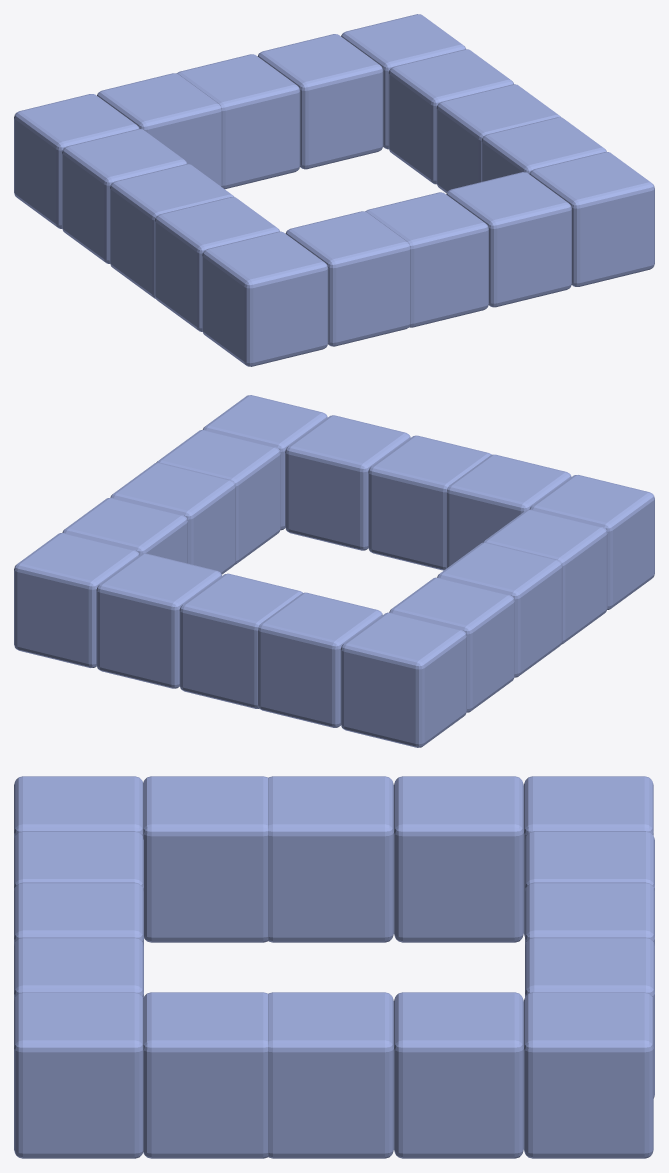
File: world border.fbx
3 renders of one model, top to bottom at view 1: azimuth 30°, elevation 25°; view 2: azimuth 150°, elevation 25°; view 3: azimuth 270°, elevation 25°, orthographic. The views are drawn at different scales.
Visible parts, largest first — view 1: Cube.020, Cube.019, Cube.003, Cube.008, Cube.001, Cube.018, Cube.002, Cube.012, Cube.014, Cube.017, Cube.016, Cube.011 (+4 smaller); view 2: Cube.017, Cube.019, Cube.003, Cube.015, Cube.013, Cube.018, Cube.002, Cube.011, Cube.016, Cube.020, Cube.014, Cube.010 (+4 smaller); view 3: Cube.008, Cube.016, Cube.012, Cube.013, Cube.010, Cube.011, Cube.009, Cube.014, Cube.019, Cube.003, Cube.002, Cube.018 (+4 smaller).
Part boxes in pixels (x1,y1,x2,y2): Cube.020: [202, 231, 328, 366]; Cube.019: [257, 34, 383, 169]; Cube.003: [446, 172, 571, 307]; Cube.008: [529, 152, 654, 286]; Cube.001: [285, 211, 410, 346]; Cube.018: [176, 54, 300, 189]; Cube.002: [365, 192, 488, 327]; Cube.012: [388, 49, 513, 184]; Cube.014: [154, 197, 279, 331]; Cube.017: [14, 94, 139, 228]; Cube.016: [62, 129, 187, 263]; Cube.011: [110, 164, 234, 298]; Cube.017: [340, 612, 466, 747]; Cube.019: [96, 553, 221, 688]; Cube.003: [285, 415, 410, 550]; Cube.015: [258, 592, 382, 727]; Cube.013: [14, 533, 139, 667]; Cube.018: [179, 573, 302, 708]; Cube.002: [368, 435, 491, 570]; Cube.011: [437, 542, 562, 677]; Cube.016: [389, 577, 514, 712]; Cube.020: [529, 475, 654, 609]; Cube.014: [483, 509, 607, 644]; Cube.010: [156, 430, 280, 564]; Cube.008: [14, 992, 143, 1158]; Cube.016: [394, 776, 523, 942]; Cube.012: [394, 992, 523, 1158]; Cube.013: [524, 992, 653, 1158]; Cube.010: [143, 992, 268, 1158]; Cube.011: [268, 776, 393, 942]; Cube.009: [268, 992, 393, 1158]; Cube.014: [143, 776, 268, 942]; Cube.019: [525, 937, 654, 1098]; Cube.003: [14, 937, 143, 1000]; Cube.002: [14, 882, 143, 945]; Cube.018: [525, 882, 654, 945].
Bounding box in the file's own units: 987 × 200 × 987.
